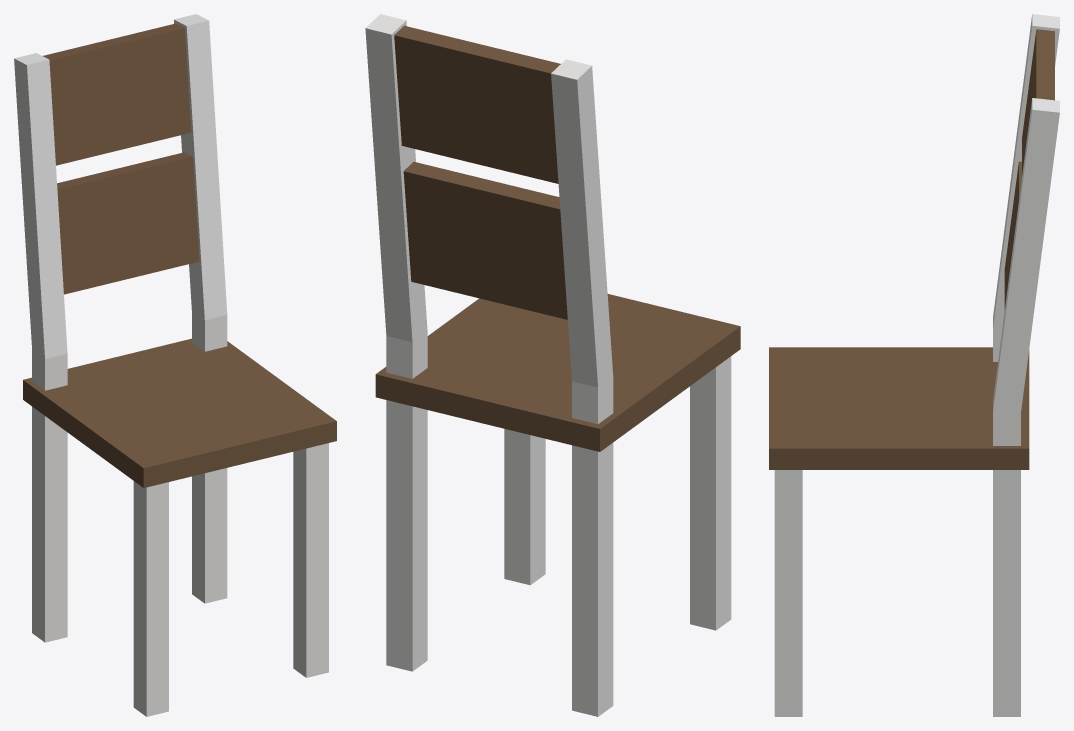
File: Chair.gltf
The picture shows the model from 3 angles, left to right: view 1: azimuth 30°, elevation 25°; view 2: azimuth 150°, elevation 25°; view 3: azimuth 270°, elevation 25°; orthographic projection. The views are drawn at different scales.
Parts seen in each view (by area): view 1: Chair; view 2: Chair; view 3: Chair.
Part boxes in pixels (x1,y1,x2,y2): Chair: (14,14,336,716); Chair: (365,14,740,716); Chair: (769,14,1059,716).
Bounding box in the file's own units: 0.4989 × 1.39 × 0.6048.
1 material, 1 textured.
